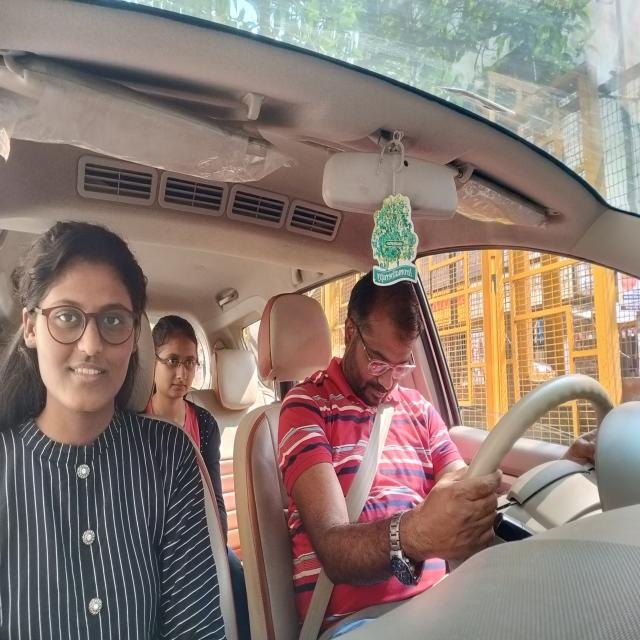drowsy: (344, 276, 422, 407)
person: (12, 210, 145, 425), (154, 316, 200, 404)
